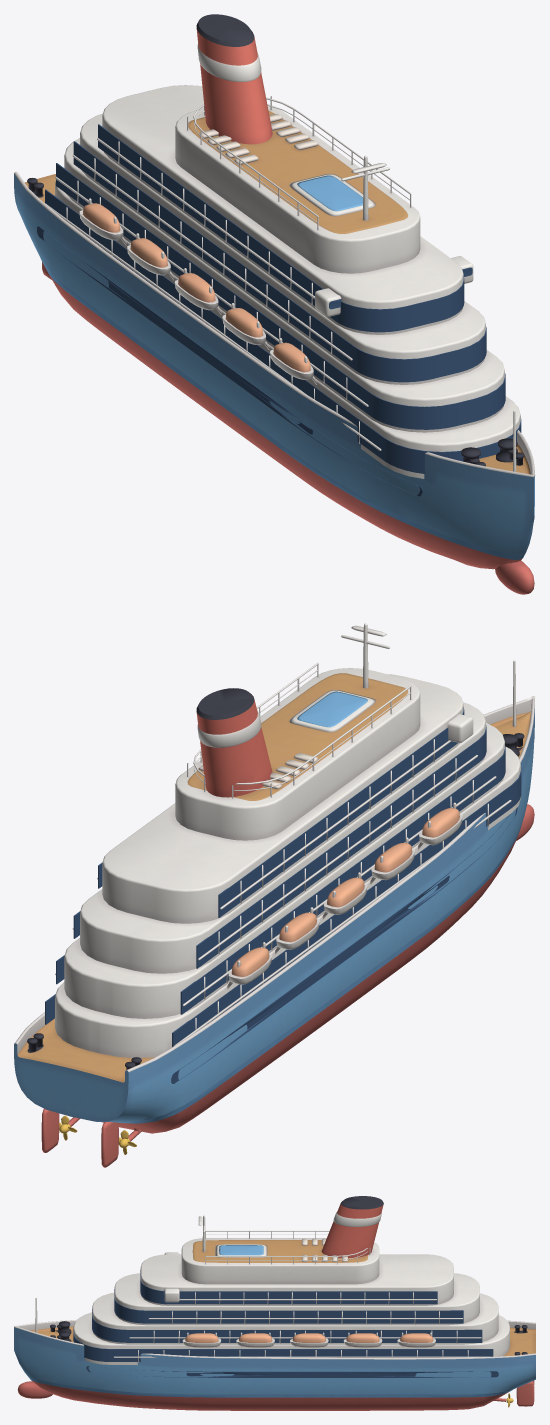
File: cruise-ship.glb
The picture shows the model from 3 angles, top to bottom: view 1: azimuth 30°, elevation 25°; view 2: azimuth 150°, elevation 25°; view 3: azimuth 270°, elevation 25°; orthographic projection. The views are drawn at different scales.
Visible parts, largest first — view 1: cruise-ship_body, cruise-ship_balcony_windows, cruise-ship_hull_windows, cruise-ship_pool_water; view 2: cruise-ship_body, cruise-ship_balcony_windows, cruise-ship_hull_windows, cruise-ship_pool_water, cruise-ship_rudder_starboard, cruise-ship_rudder_port; view 3: cruise-ship_body, cruise-ship_balcony_windows, cruise-ship_hull_windows, cruise-ship_pool_water, cruise-ship_rudder_port.
Part boxes in pixels (left/top/right/bottom): cruise-ship_body: left=14, top=14, right=535, bottom=594; cruise-ship_balcony_windows: left=45, top=124, right=521, bottom=473; cruise-ship_hull_windows: left=37, top=226, right=422, bottom=496; cruise-ship_pool_water: left=297, top=175, right=362, bottom=211; cruise-ship_body: left=14, top=623, right=535, bottom=1141; cruise-ship_balcony_windows: left=45, top=707, right=521, bottom=1046; cruise-ship_hull_windows: left=171, top=807, right=517, bottom=1083; cruise-ship_pool_water: left=297, top=691, right=367, bottom=727; cruise-ship_rudder_starboard: left=101, top=1122, right=118, bottom=1167; cruise-ship_rudder_port: left=41, top=1108, right=59, bottom=1152; cruise-ship_body: left=14, top=1196, right=535, bottom=1410; cruise-ship_balcony_windows: left=73, top=1270, right=493, bottom=1361; cruise-ship_hull_windows: left=86, top=1366, right=498, bottom=1377; cruise-ship_pool_water: left=219, top=1245, right=263, bottom=1255; cruise-ship_rudder_port: left=516, top=1381, right=534, bottom=1406.
Bounding box in the file's own units: 14.8 × 29.73 × 70.
9 materials, 1 textured.
